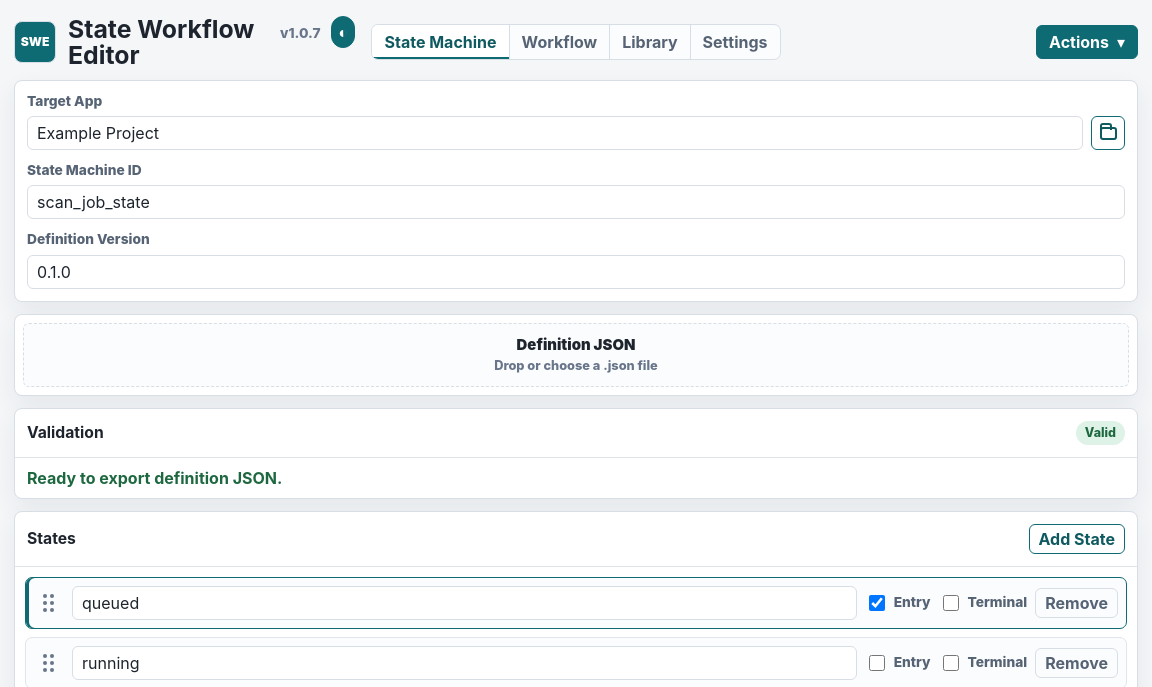
Test: App › strips package scope when choosing a scoped package project folder
The image size is (1152, 687).
Click the button named "Choose app folder".
click(1108, 133)  # box [1091,116,1125,150]
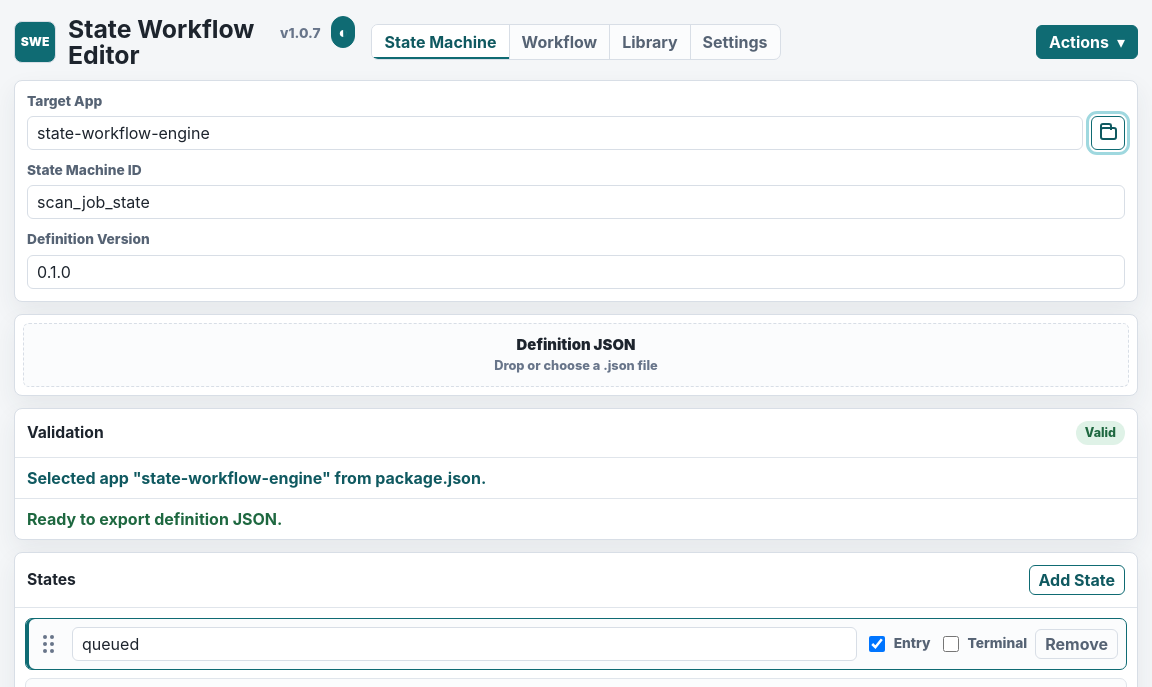
Check: the field labelled "Target App" holds "state-workflow-engine", box [27,116,1083,150]
